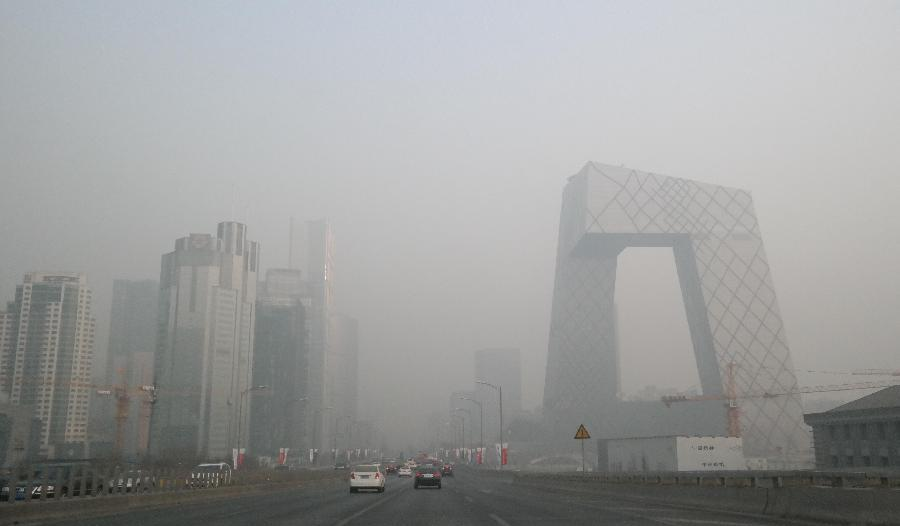car: (1, 462, 104, 506), (186, 461, 232, 493), (108, 468, 155, 494), (349, 464, 386, 492), (412, 465, 442, 489), (398, 465, 412, 478)
